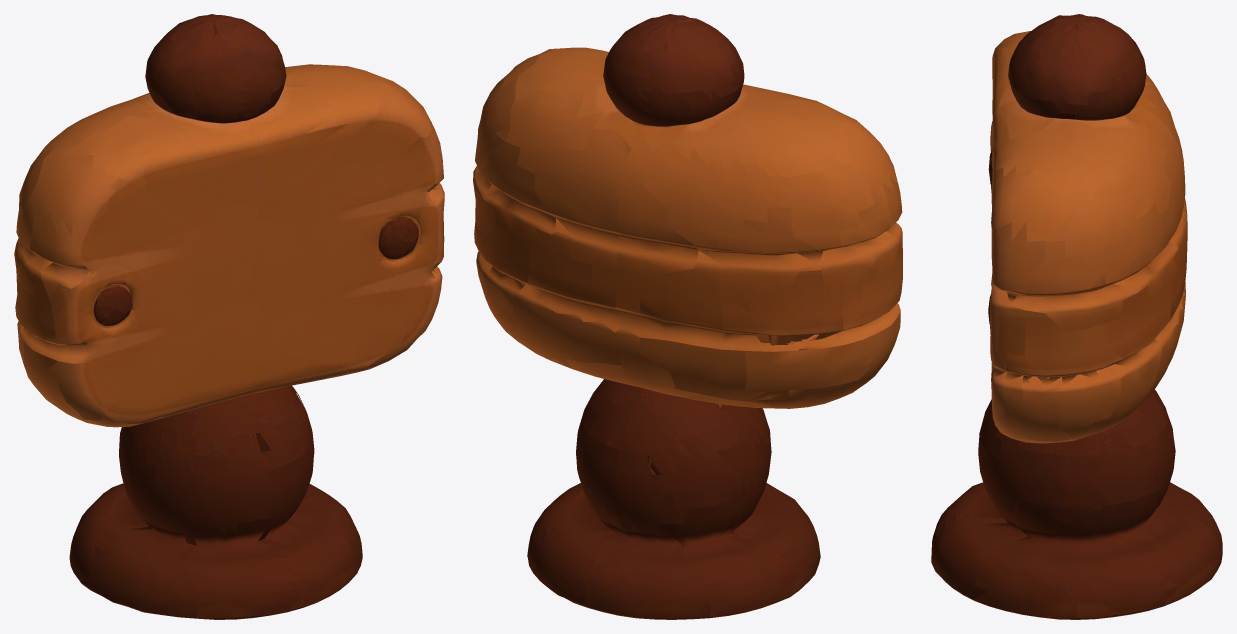
Rendered from la_cartel.glb.
3 views of the same model, side by side, from view 1: azimuth 30°, elevation 25°; view 2: azimuth 150°, elevation 25°; view 3: azimuth 270°, elevation 25° (orthographic).
Size of the model in its own units: 0.7871 by 1 by 0.4912.
Materials: 1 (1 with a texture image).
